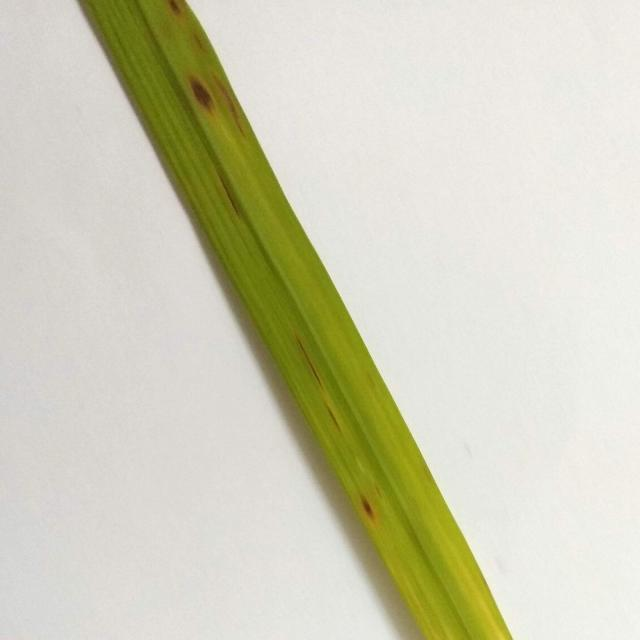Brown spot: (64, 1, 513, 640)
